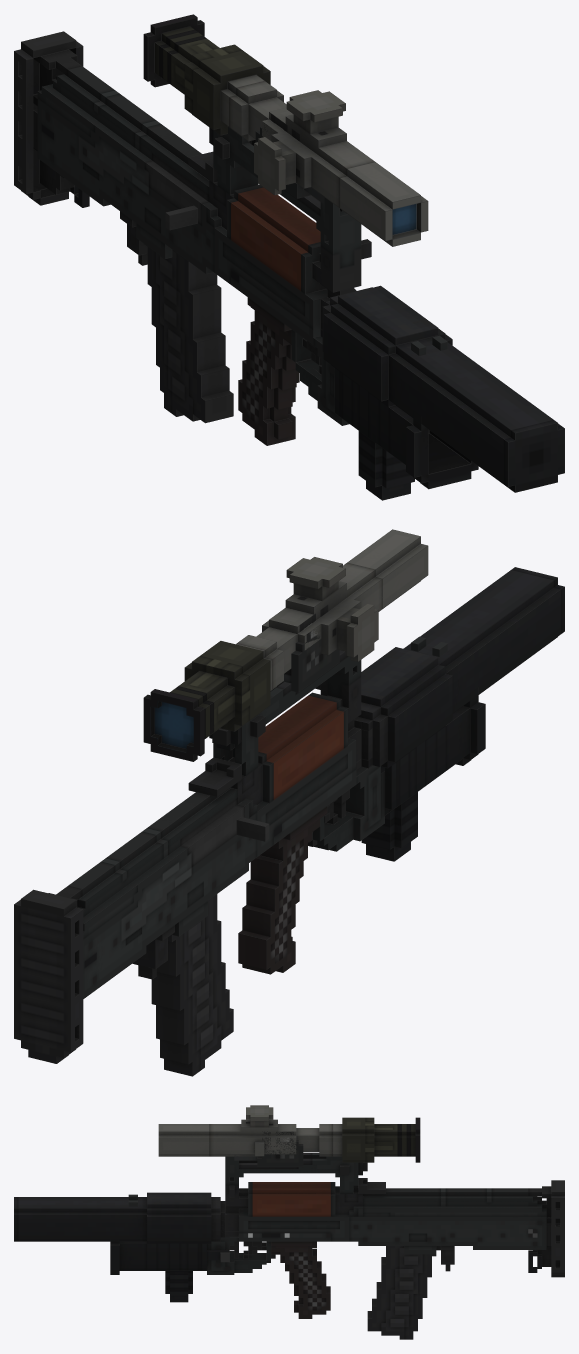
The model's file is RD_GROZA.glb.
3 renders of one model, top to bottom at view 1: azimuth 30°, elevation 25°; view 2: azimuth 150°, elevation 25°; view 3: azimuth 270°, elevation 25°, orthographic. The views are drawn at different scales.
Visible parts, largest first — view 1: GROZA, SCOPE_PSO1, GROZA_SILENCER, GROZA_CLIP, GROZA_GP, GROZA_GRIP, SCOPE_EOTECH, GROZA_BOLT; view 2: GROZA, SCOPE_PSO1, GROZA_SILENCER, GROZA_CLIP, GROZA_GP, GROZA_GRIP, SCOPE_EOTECH; view 3: GROZA, GROZA_SILENCER, SCOPE_PSO1, GROZA_GP, GROZA_CLIP, SCOPE_EOTECH, GROZA_GRIP.
Part boxes in pixels (x1=…): GROZA: x1=14, y1=31, x2=371, y2=445; SCOPE_PSO1: x1=143, y1=14, x2=428, y2=246; GROZA_SILENCER: x1=310, y1=285, x2=564, y2=492; GROZA_CLIP: x1=144, y1=244, x2=233, y2=423; GROZA_GP: x1=291, y1=329, x2=478, y2=489; GROZA_GRIP: x1=307, y1=329, x2=414, y2=500; SCOPE_EOTECH: x1=255, y1=113, x2=324, y2=204; GROZA_BOLT: x1=165, y1=205, x2=197, y2=230; GROZA: x1=14, y1=650, x2=361, y2=1063; SCOPE_PSO1: x1=143, y1=529, x2=428, y2=761; GROZA_SILENCER: x1=354, y1=567, x2=564, y2=773; GROZA_CLIP: x1=151, y1=894, x2=233, y2=1076; GROZA_GP: x1=313, y1=636, x2=485, y2=851; GROZA_GRIP: x1=309, y1=759, x2=417, y2=861; SCOPE_EOTECH: x1=283, y1=613, x2=339, y2=692; GROZA: x1=225, y1=1153, x2=564, y2=1318; GROZA_SILENCER: x1=14, y1=1192, x2=275, y2=1262; SCOPE_PSO1: x1=158, y1=1105, x2=420, y2=1162; GROZA_GP: x1=110, y1=1194, x2=270, y2=1274; GROZA_CLIP: x1=367, y1=1246, x2=440, y2=1339; SCOPE_EOTECH: x1=234, y1=1131, x2=303, y2=1166; GROZA_GRIP: x1=165, y1=1220, x2=224, y2=1302.
Size of the model in its own units: 0.1181 by 0.5314 by 1.18.
Materials: 6 (6 with a texture image).
